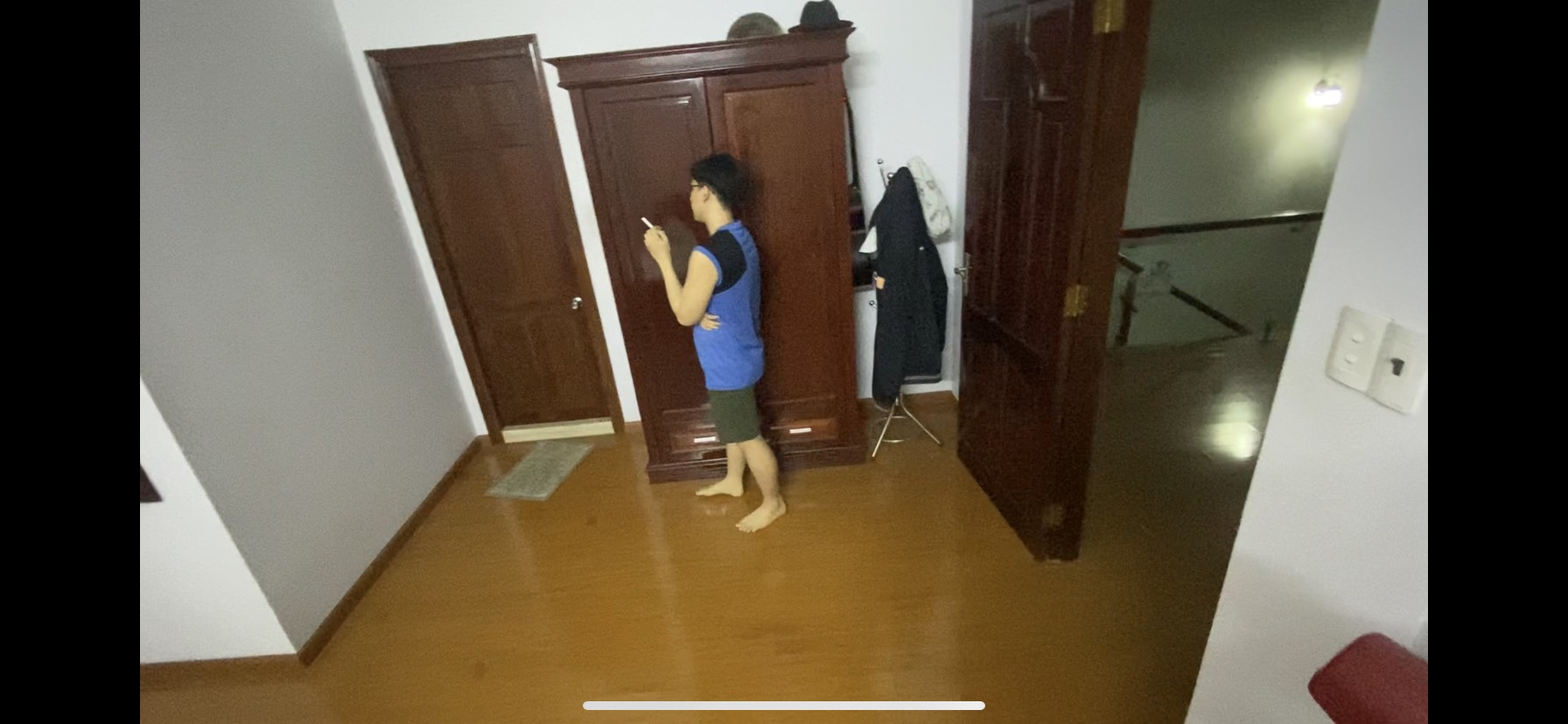cigarette: (643, 215, 657, 230)
person: (621, 139, 824, 555)
